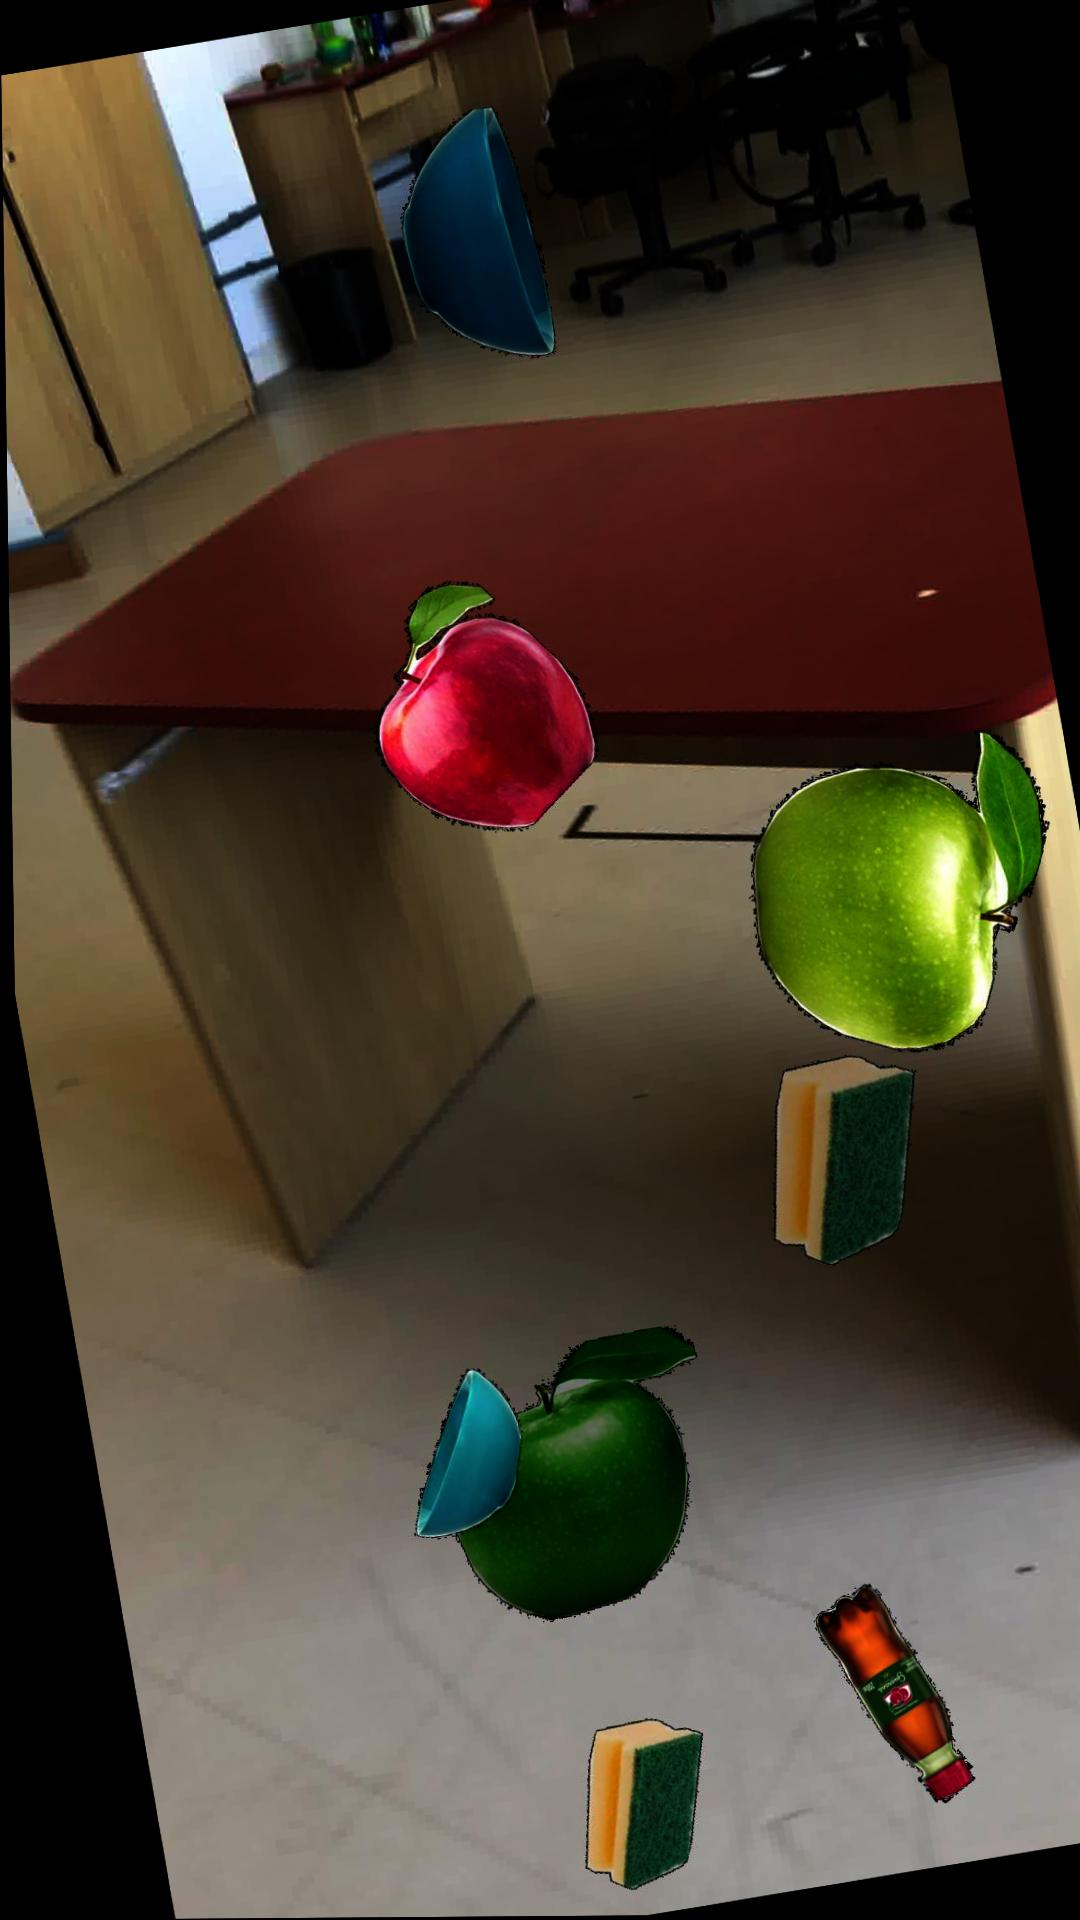apple: (368, 579, 591, 829)
bowl: (398, 104, 551, 356), (407, 1367, 514, 1536)
green apple: (745, 729, 1043, 1051), (447, 1325, 690, 1619)
guarana: (807, 1582, 965, 1801)
sponge: (766, 1054, 907, 1263), (576, 1717, 694, 1888)
